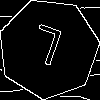L: (24, 23, 65, 76)
